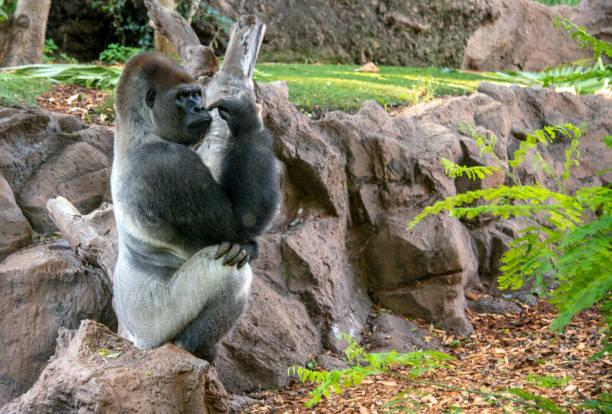gorille_Autres: (117, 45, 255, 391)
